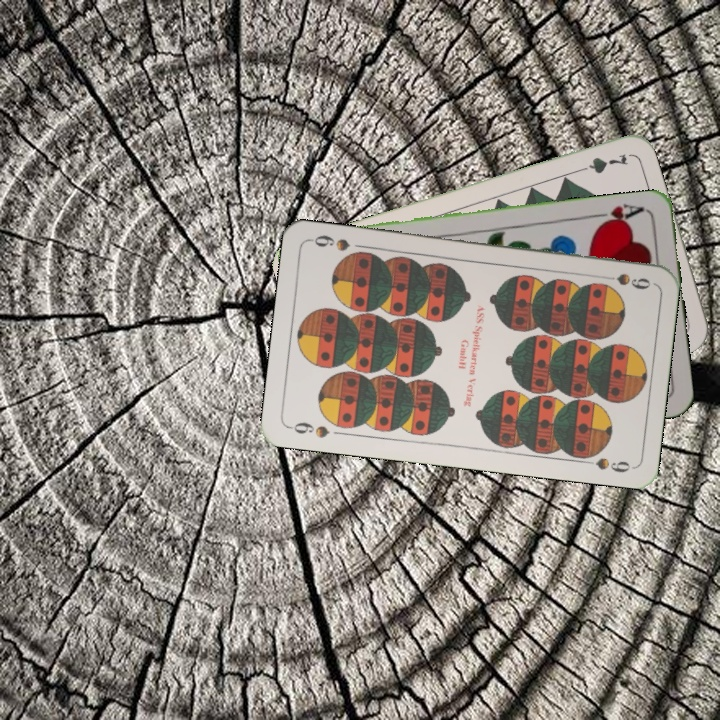G7: (572, 150, 631, 176)
HA: (589, 200, 647, 230)
S9: (285, 418, 332, 441), (609, 269, 654, 292)
